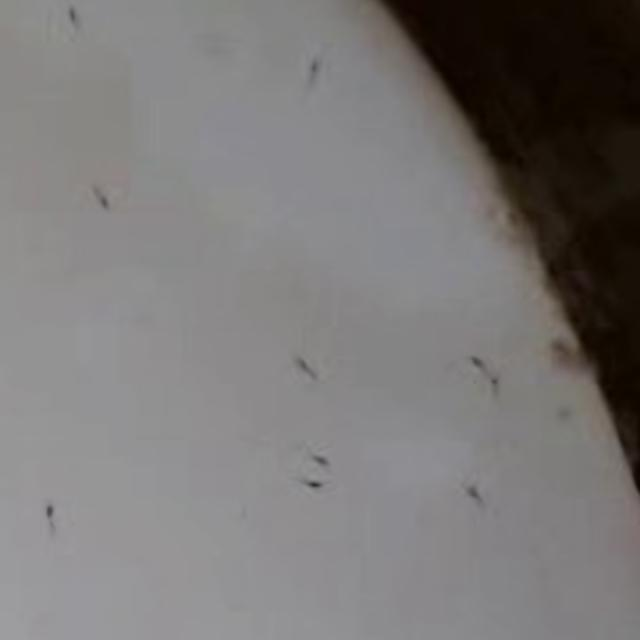shrimp-seed: (280, 345, 339, 399), (60, 158, 110, 216), (283, 40, 333, 87), (296, 454, 335, 510), (302, 439, 359, 477), (487, 362, 526, 414), (456, 332, 496, 375), (37, 495, 70, 541), (47, 0, 74, 41), (453, 488, 483, 522)
